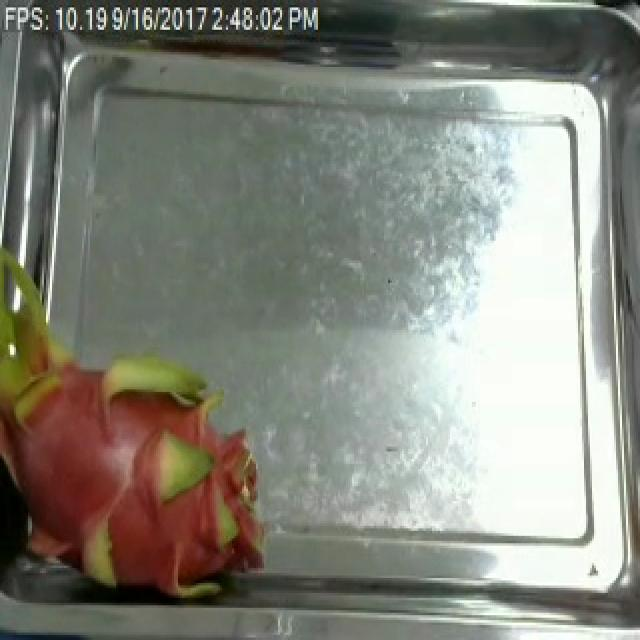fruit: (0, 270, 276, 610)
